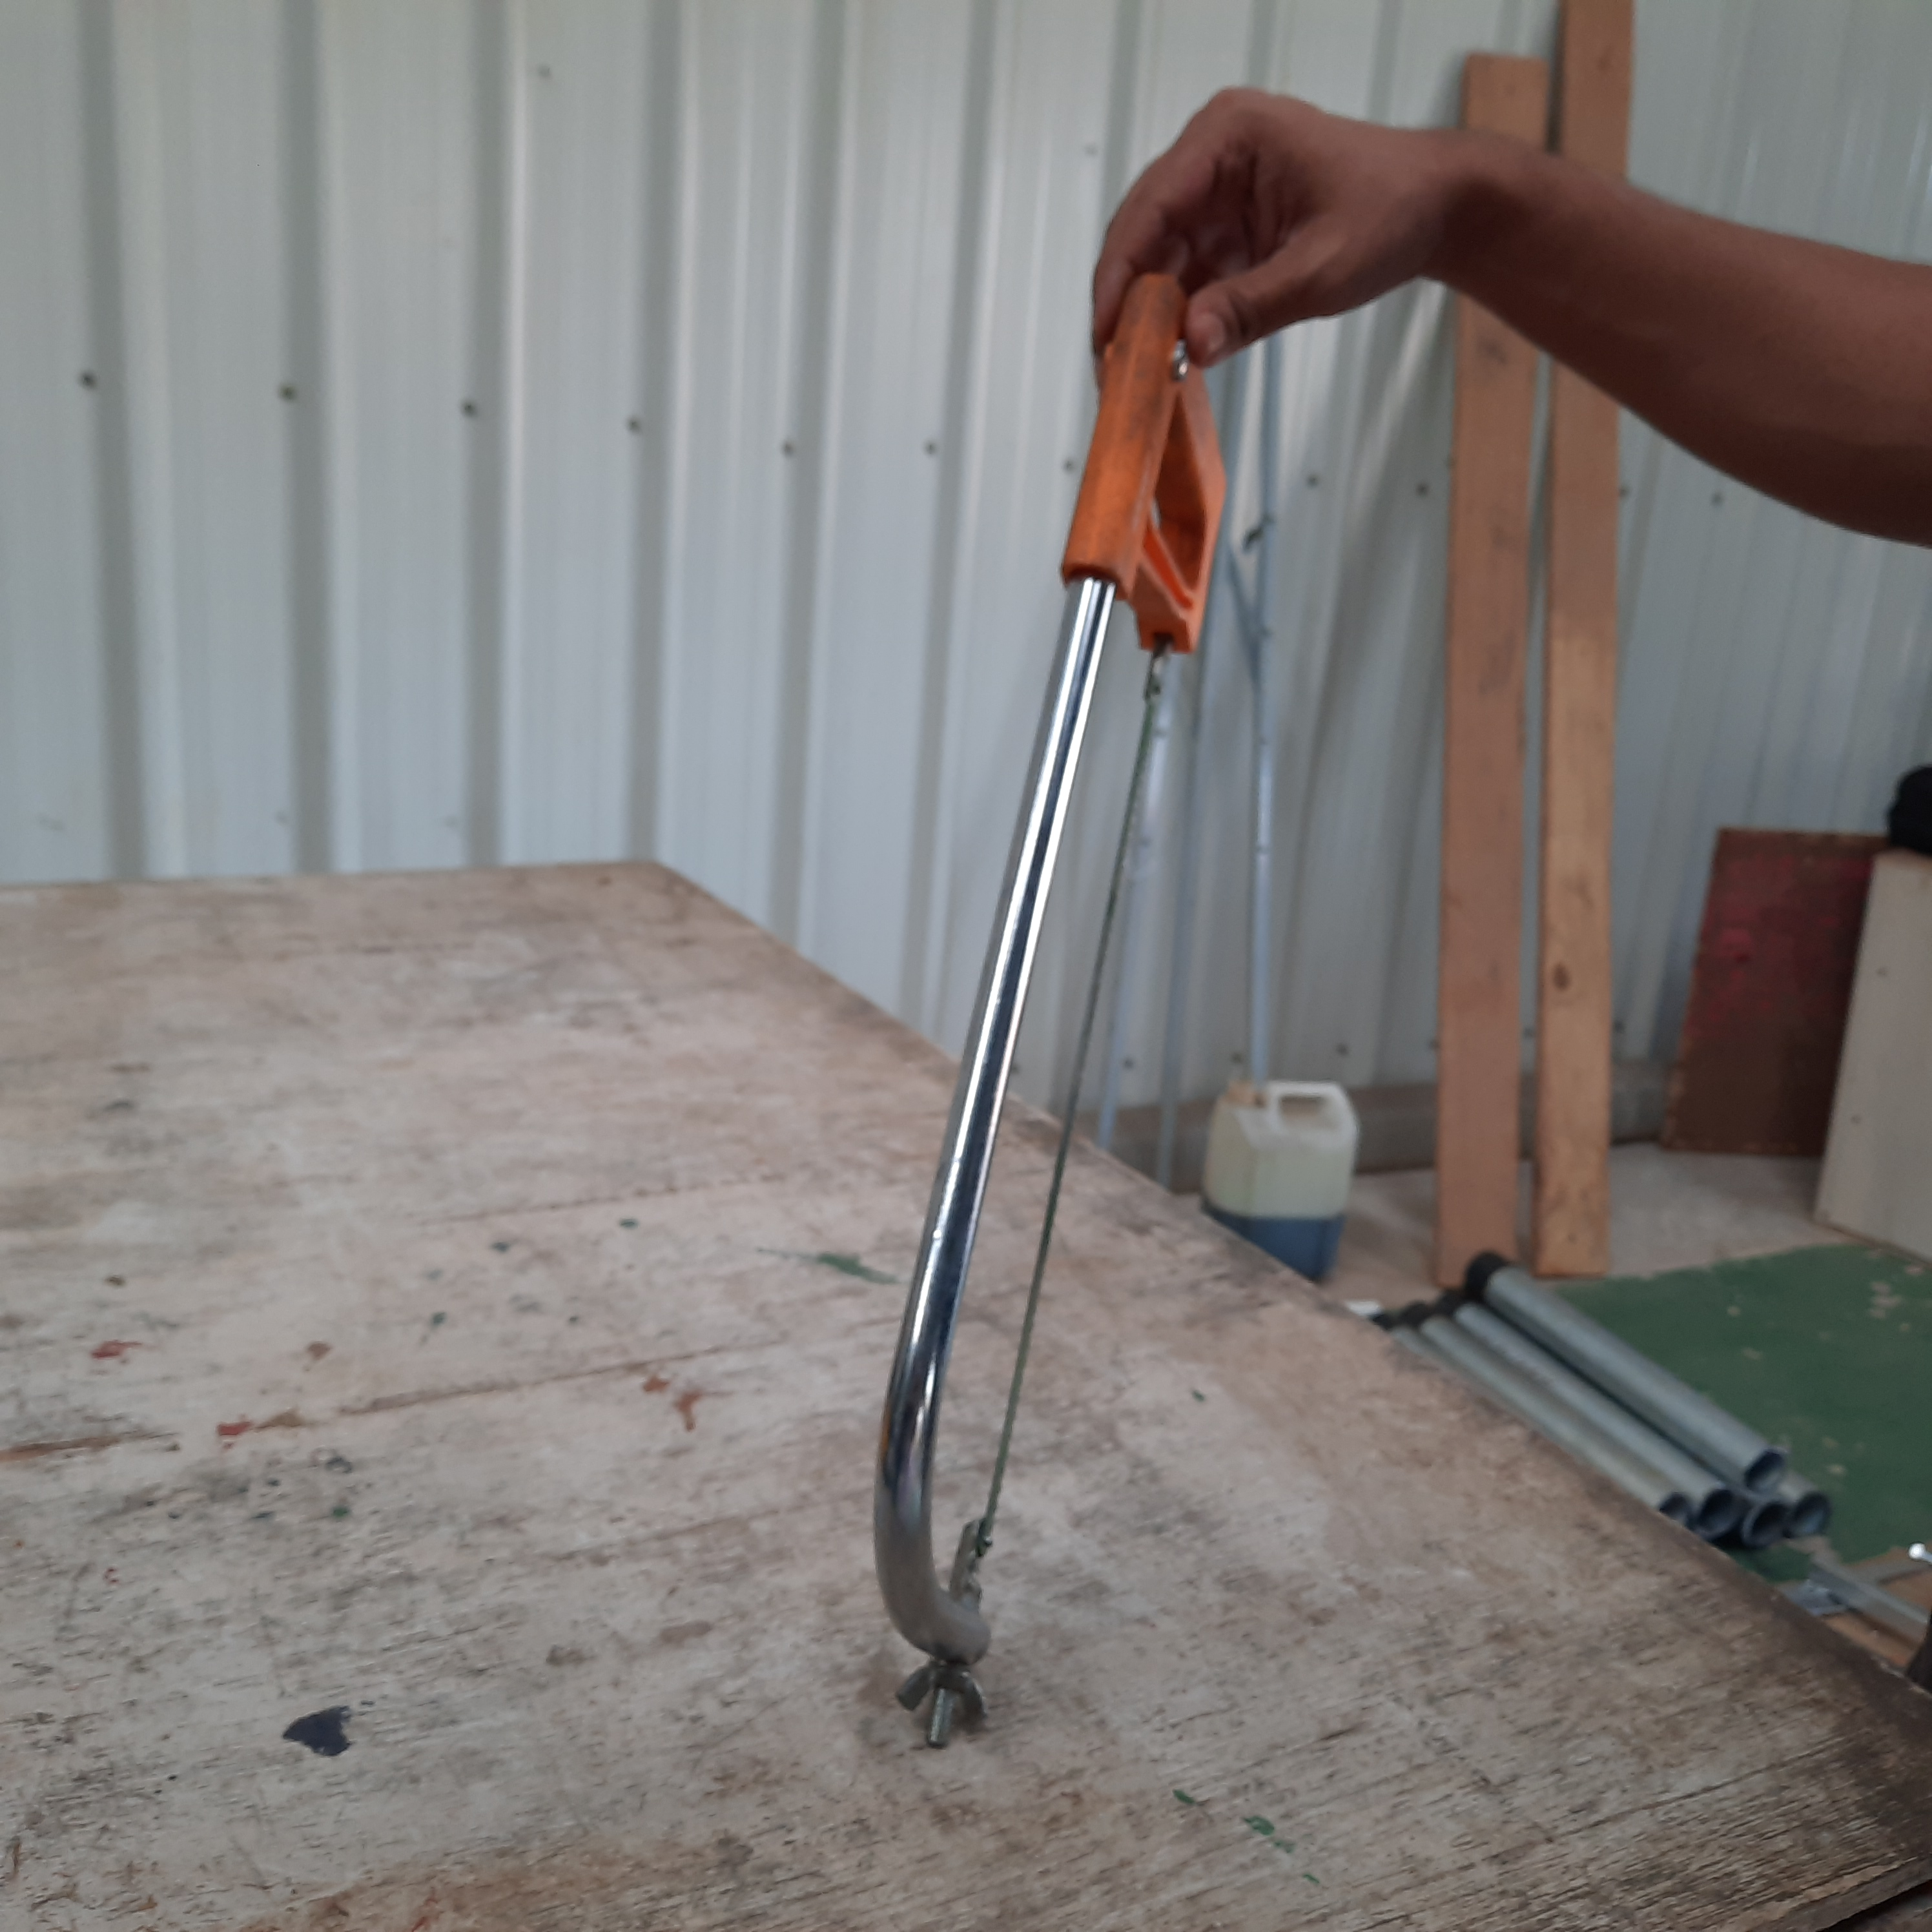Hexaframe: (801, 241, 1263, 1851)
